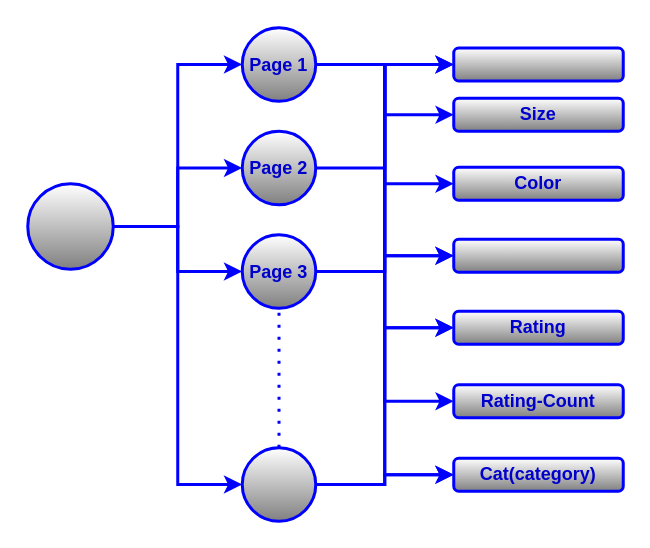
The diagram is 650 pixels wide and 548 high, and some of its shapes have lost their labels. The centre of each missing label's shape, as x and y in pixels:
Discount: [538,255]
Name: [538,64]
Page N: [278,484]
Start Url: [70,226]
